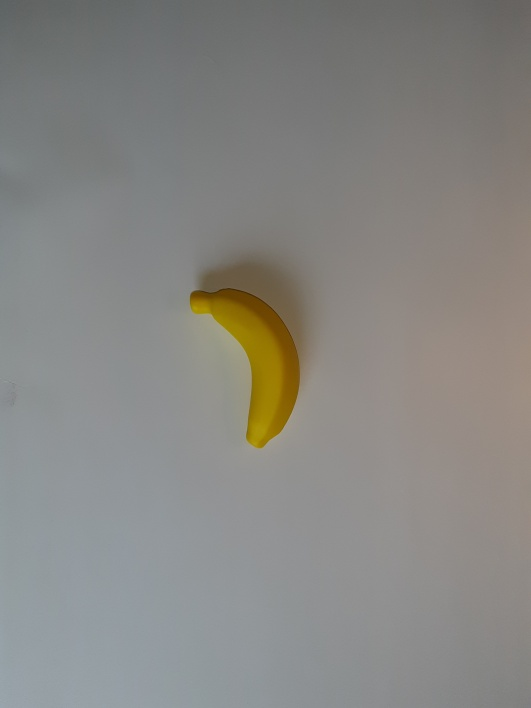banana: (191, 288, 296, 352)
